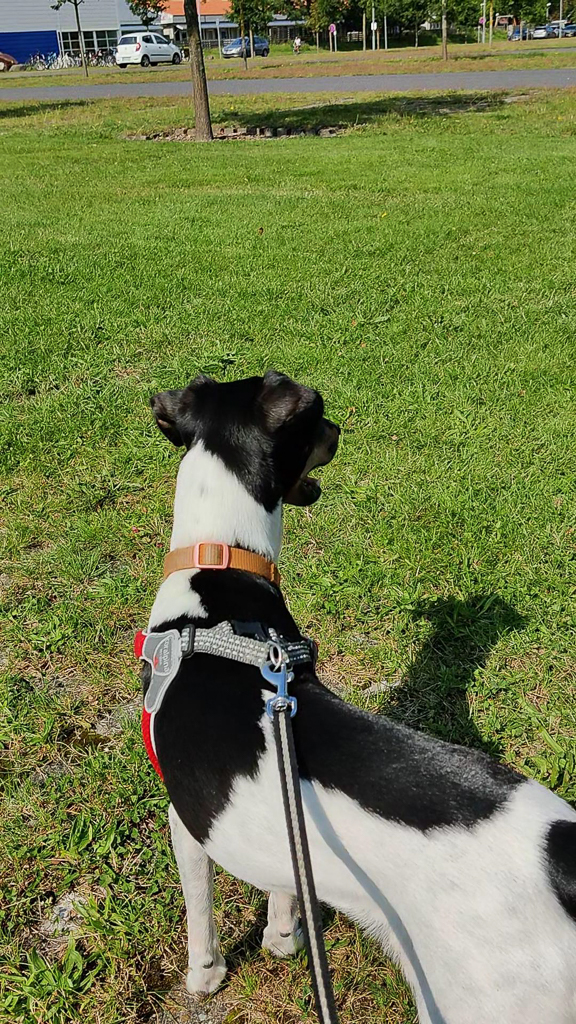Dog: (119, 366, 576, 1024)
Humanoid: (292, 35, 303, 55)
